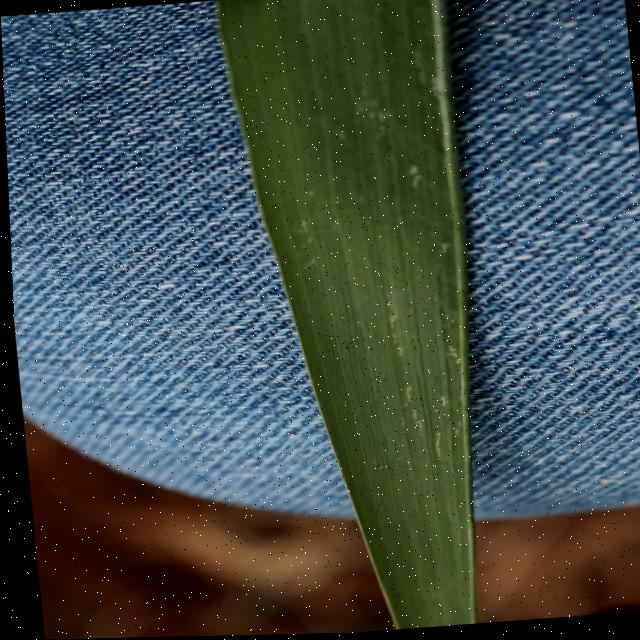healthy_wheat: (161, 0, 530, 637)
